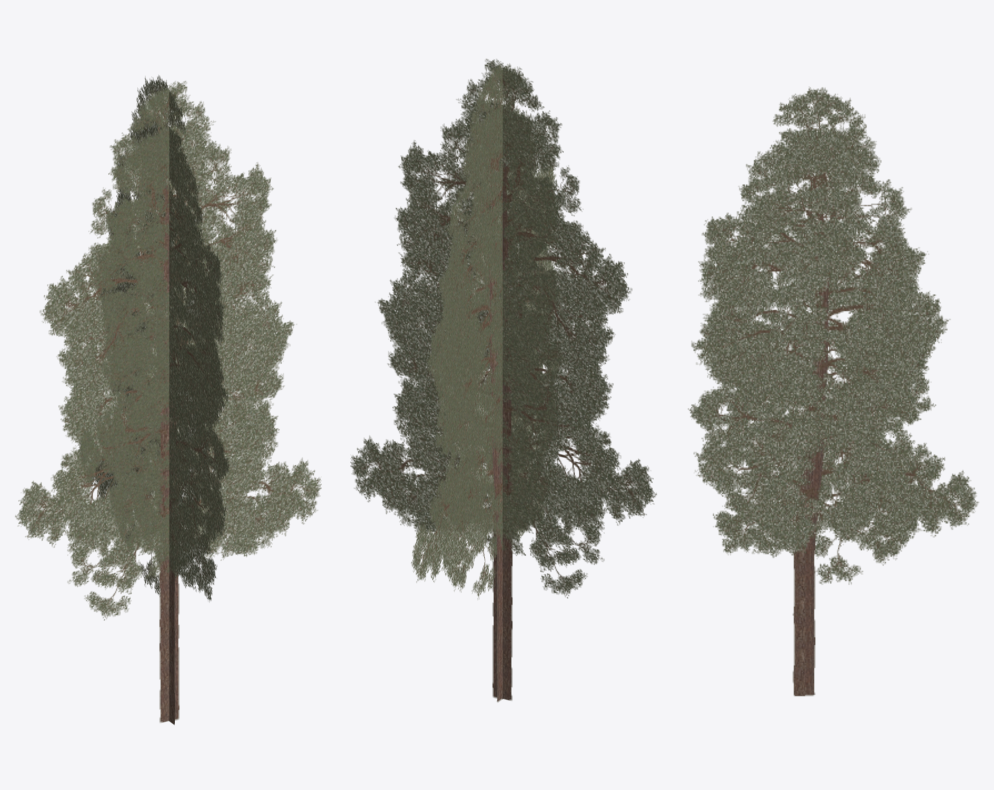
The model's file is SequoiadendronGiganteum.glb.
The picture shows the model from 3 angles, left to right: view 1: azimuth 30°, elevation 25°; view 2: azimuth 150°, elevation 25°; view 3: azimuth 270°, elevation 25°; orthographic projection. The views are drawn at different scales.
Visible parts, largest first — view 1: mesh__mat_billboard_4; view 2: mesh__mat_billboard_4; view 3: mesh__mat_billboard_4.
Boxes of the visible parts, x1,y1,x2,y2 form: mesh__mat_billboard_4: [15, 75, 321, 724]; mesh__mat_billboard_4: [350, 59, 656, 702]; mesh__mat_billboard_4: [688, 87, 978, 696].
Bounding box in the file's own units: 31.34 × 63.14 × 27.18.
1 material, 1 textured.
